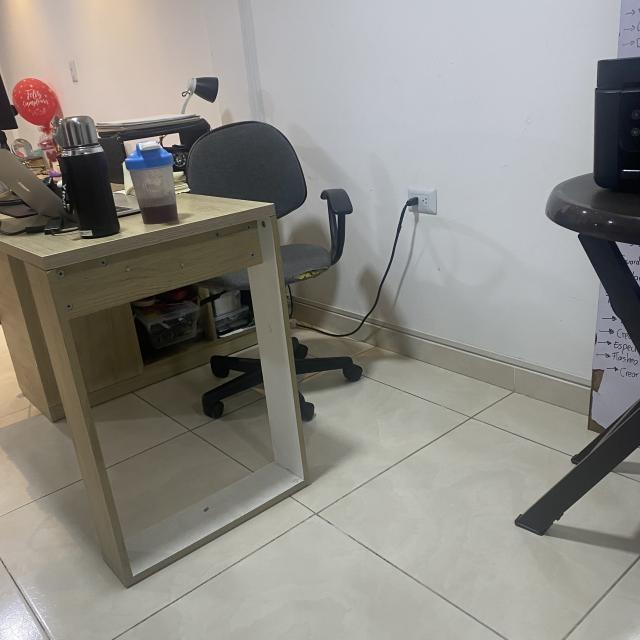obstacle: (4, 94, 342, 596), (496, 50, 640, 555)
